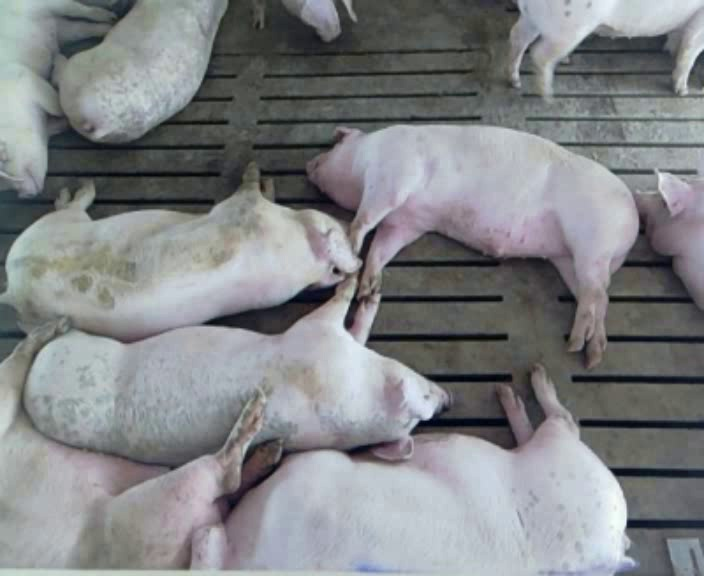pig: (189, 365, 633, 573), (307, 125, 638, 367), (24, 276, 448, 464), (0, 163, 359, 340), (51, 2, 226, 142), (0, 2, 115, 196), (509, 2, 703, 96), (635, 171, 703, 309)
